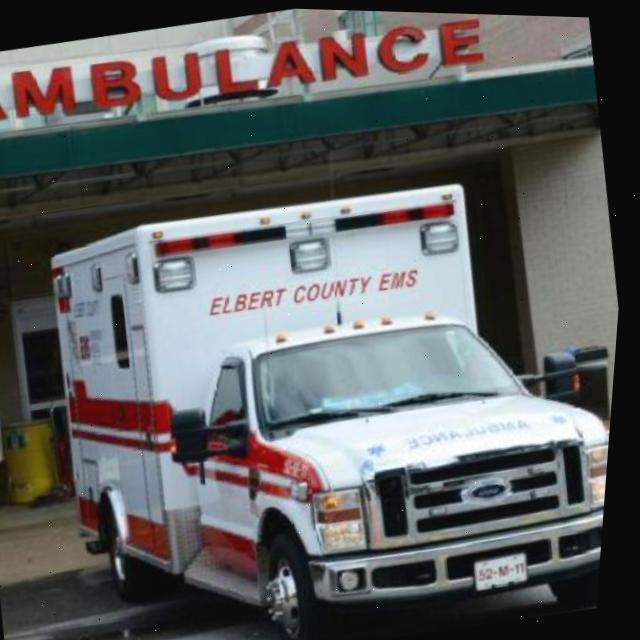emergency: (25, 139, 632, 640)
